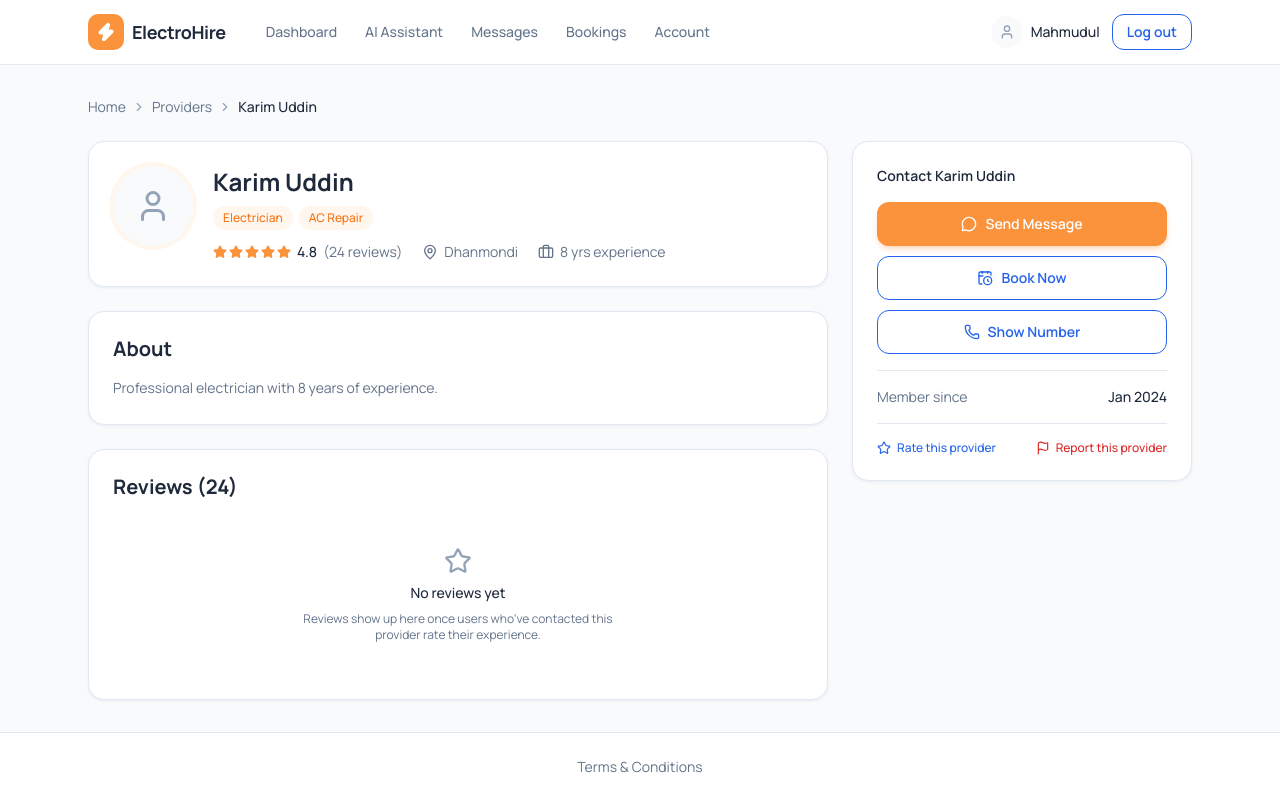
Test: ProviderDetailPage › logs a contact and explains the number is not available yet on "Show Number"
Expected: the heading "Karim Uddin" is shown, [213, 165, 354, 198]
Click the button "Show Number" at (1022, 332), box [877, 310, 1167, 354]
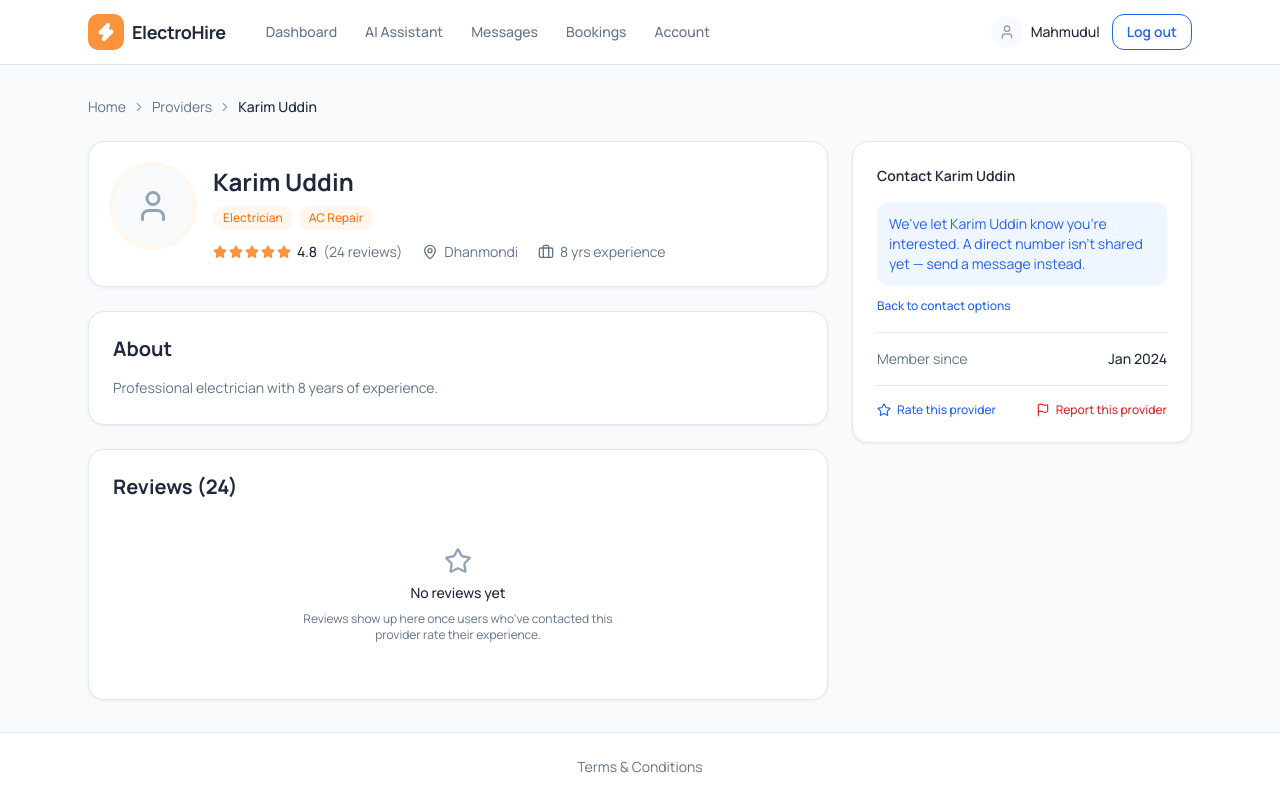
Expected: the text "A direct number isn't shared yet" is shown, [889, 214, 1143, 273]
